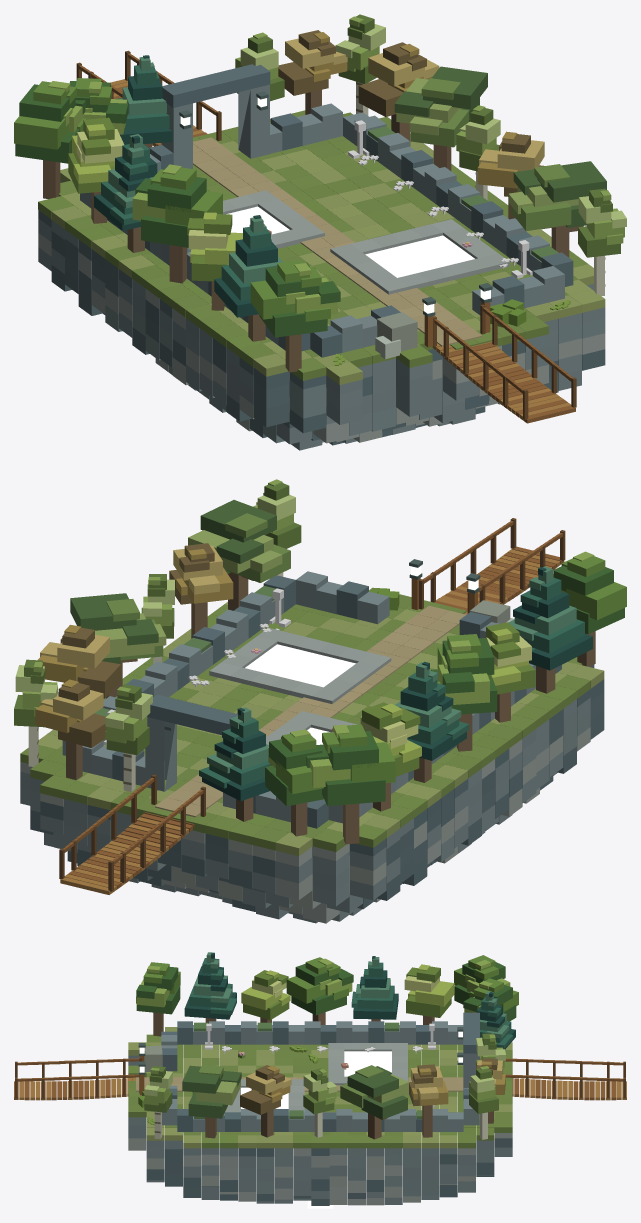
Rendered from room_pools_purified.glb.
The picture shows the model from 3 angles, top to bottom: view 1: azimuth 30°, elevation 25°; view 2: azimuth 150°, elevation 25°; view 3: azimuth 270°, elevation 25°; orthographic projection. The views are drawn at different scales.
Visible parts, largest first — view 1: room_pools_blocks, tree0_(0, 0).001, tree0_(0, 0).002, tree3_(0, 0).002, tree3_(0, 0).001, tree0_(0, 0).003, tree2_(0, 0).001, tree5_(0, 0).002, tree2_(0, 0).002, tree5_(0, 0).003, tree4_(0, 0).002, tree2_(0, 0).003 (+9 smaller); view 2: room_pools_blocks, tree0_(0, 0).003, tree3_(0, 0).001, tree2_(0, 0).001, tree2_(0, 0).003, tree3_(0, 0).002, tree0_(0, 0).002, tree2_(0, 0).002, tree0_(0, 0).001, tree5_(0, 0).003, tree0_(0, 0).004, tree5_(0, 0).002 (+8 smaller); view 3: room_pools_blocks, tree3_(0, 0).002, tree0_(0, 0).002, tree3_(0, 0).001, tree2_(0, 0).001, tree0_(0, 0).001, tree2_(0, 0).002, tree4_(0, 0).002, tree5_(0, 0).001, tree4_(0, 0).001, tree5_(0, 0).002, tree0_(0, 0).003 (+8 smaller).
Part boxes in pixels (x1,y1,x2,y2): room_pools_blocks: [38, 50, 605, 450]; tree0_(0, 0).001: [250, 260, 340, 372]; tree0_(0, 0).002: [132, 164, 222, 283]; tree3_(0, 0).002: [394, 66, 487, 170]; tree3_(0, 0).001: [508, 161, 606, 257]; tree0_(0, 0).003: [14, 81, 86, 198]; tree2_(0, 0).001: [214, 215, 282, 341]; tree5_(0, 0).002: [358, 42, 439, 146]; tree2_(0, 0).002: [94, 134, 157, 252]; tree5_(0, 0).003: [278, 30, 347, 114]; tree4_(0, 0).002: [68, 117, 124, 223]; tree2_(0, 0).003: [117, 55, 172, 148]; room_pools_blocks: [20, 518, 604, 923]; tree0_(0, 0).003: [306, 724, 395, 844]; tree3_(0, 0).001: [188, 500, 290, 610]; tree2_(0, 0).001: [509, 566, 592, 693]; tree2_(0, 0).003: [199, 707, 269, 821]; tree3_(0, 0).002: [70, 593, 166, 698]; tree0_(0, 0).002: [431, 634, 497, 751]; tree2_(0, 0).002: [395, 661, 469, 782]; tree0_(0, 0).001: [553, 551, 626, 666]; tree5_(0, 0).003: [35, 679, 106, 779]; tree0_(0, 0).004: [265, 729, 323, 836]; tree5_(0, 0).002: [37, 624, 120, 698]; room_pools_blocks: [14, 1012, 626, 1208]; tree3_(0, 0).002: [340, 1065, 408, 1139]; tree0_(0, 0).002: [286, 957, 353, 1024]; tree3_(0, 0).001: [182, 1064, 241, 1138]; tree2_(0, 0).001: [184, 952, 236, 1023]; tree0_(0, 0).001: [136, 962, 180, 1036]; tree2_(0, 0).002: [351, 956, 398, 1021]; tree4_(0, 0).002: [404, 964, 454, 1024]; tree5_(0, 0).001: [240, 1065, 291, 1137]; tree4_(0, 0).001: [241, 970, 290, 1022]; tree5_(0, 0).002: [409, 1064, 448, 1137]; tree0_(0, 0).003: [454, 955, 510, 1004].
Size of the model in its own units: 19.66 by 13.88 by 38.5.
